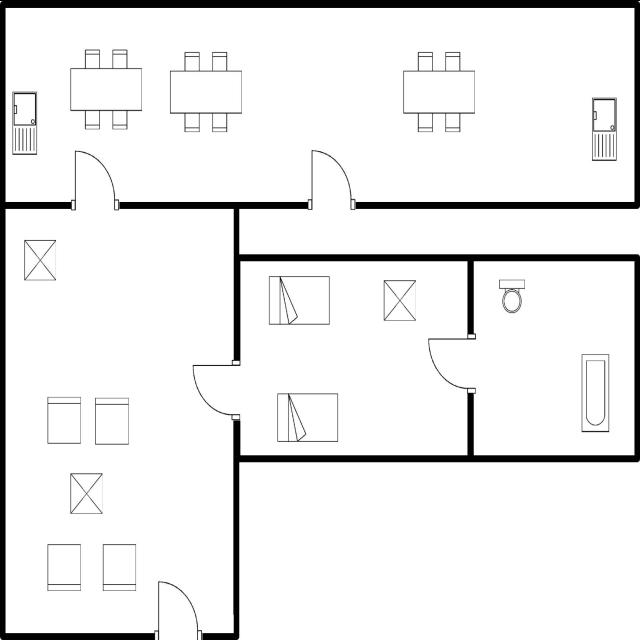bed: (272, 387, 344, 448), (265, 271, 335, 330)
coffee_table: (378, 272, 420, 328), (66, 465, 108, 519), (19, 233, 59, 284)
dining_table: (398, 46, 480, 143), (164, 46, 248, 138), (66, 44, 146, 134)
large_sink: (494, 274, 530, 322)
sink: (586, 90, 622, 167), (8, 86, 43, 162)
small_sofa: (41, 538, 88, 598), (98, 538, 142, 598), (42, 390, 86, 450), (92, 392, 134, 450)
tub: (576, 349, 614, 438)
